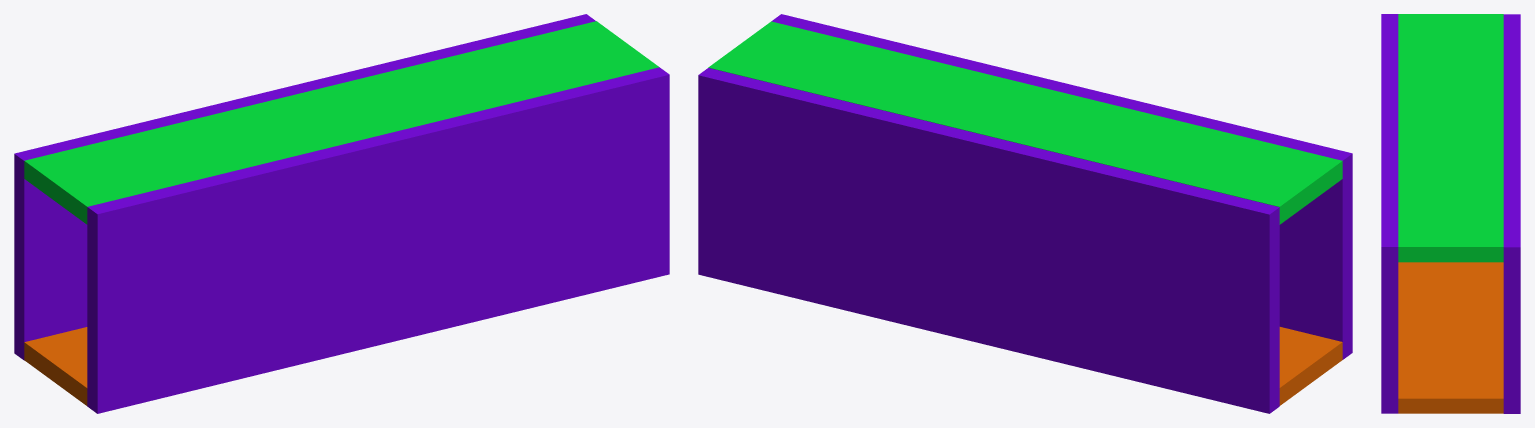
The model's file is Hallway.glb.
3 renders of one model, left to right at view 1: azimuth 30°, elevation 25°; view 2: azimuth 150°, elevation 25°; view 3: azimuth 270°, elevation 25°, orthographic. The views are drawn at different scales.
Parts seen in each view (by area): view 1: Cube.002, Cube.003, Cube; view 2: Cube.002, Cube.003, Cube; view 3: Cube.003, Cube, Cube.002.
Boxes of the visible parts, x1,y1,x2,y2 form: Cube.002: [14, 14, 669, 413]; Cube.003: [24, 21, 659, 224]; Cube: [24, 327, 87, 405]; Cube.002: [698, 14, 1352, 413]; Cube.003: [708, 21, 1342, 224]; Cube: [1279, 327, 1342, 405]; Cube.003: [1398, 14, 1503, 262]; Cube: [1398, 262, 1503, 413]; Cube.002: [1381, 14, 1520, 413].
Bounding box in the file's own units: 18.84 × 6.29 × 4.75.
